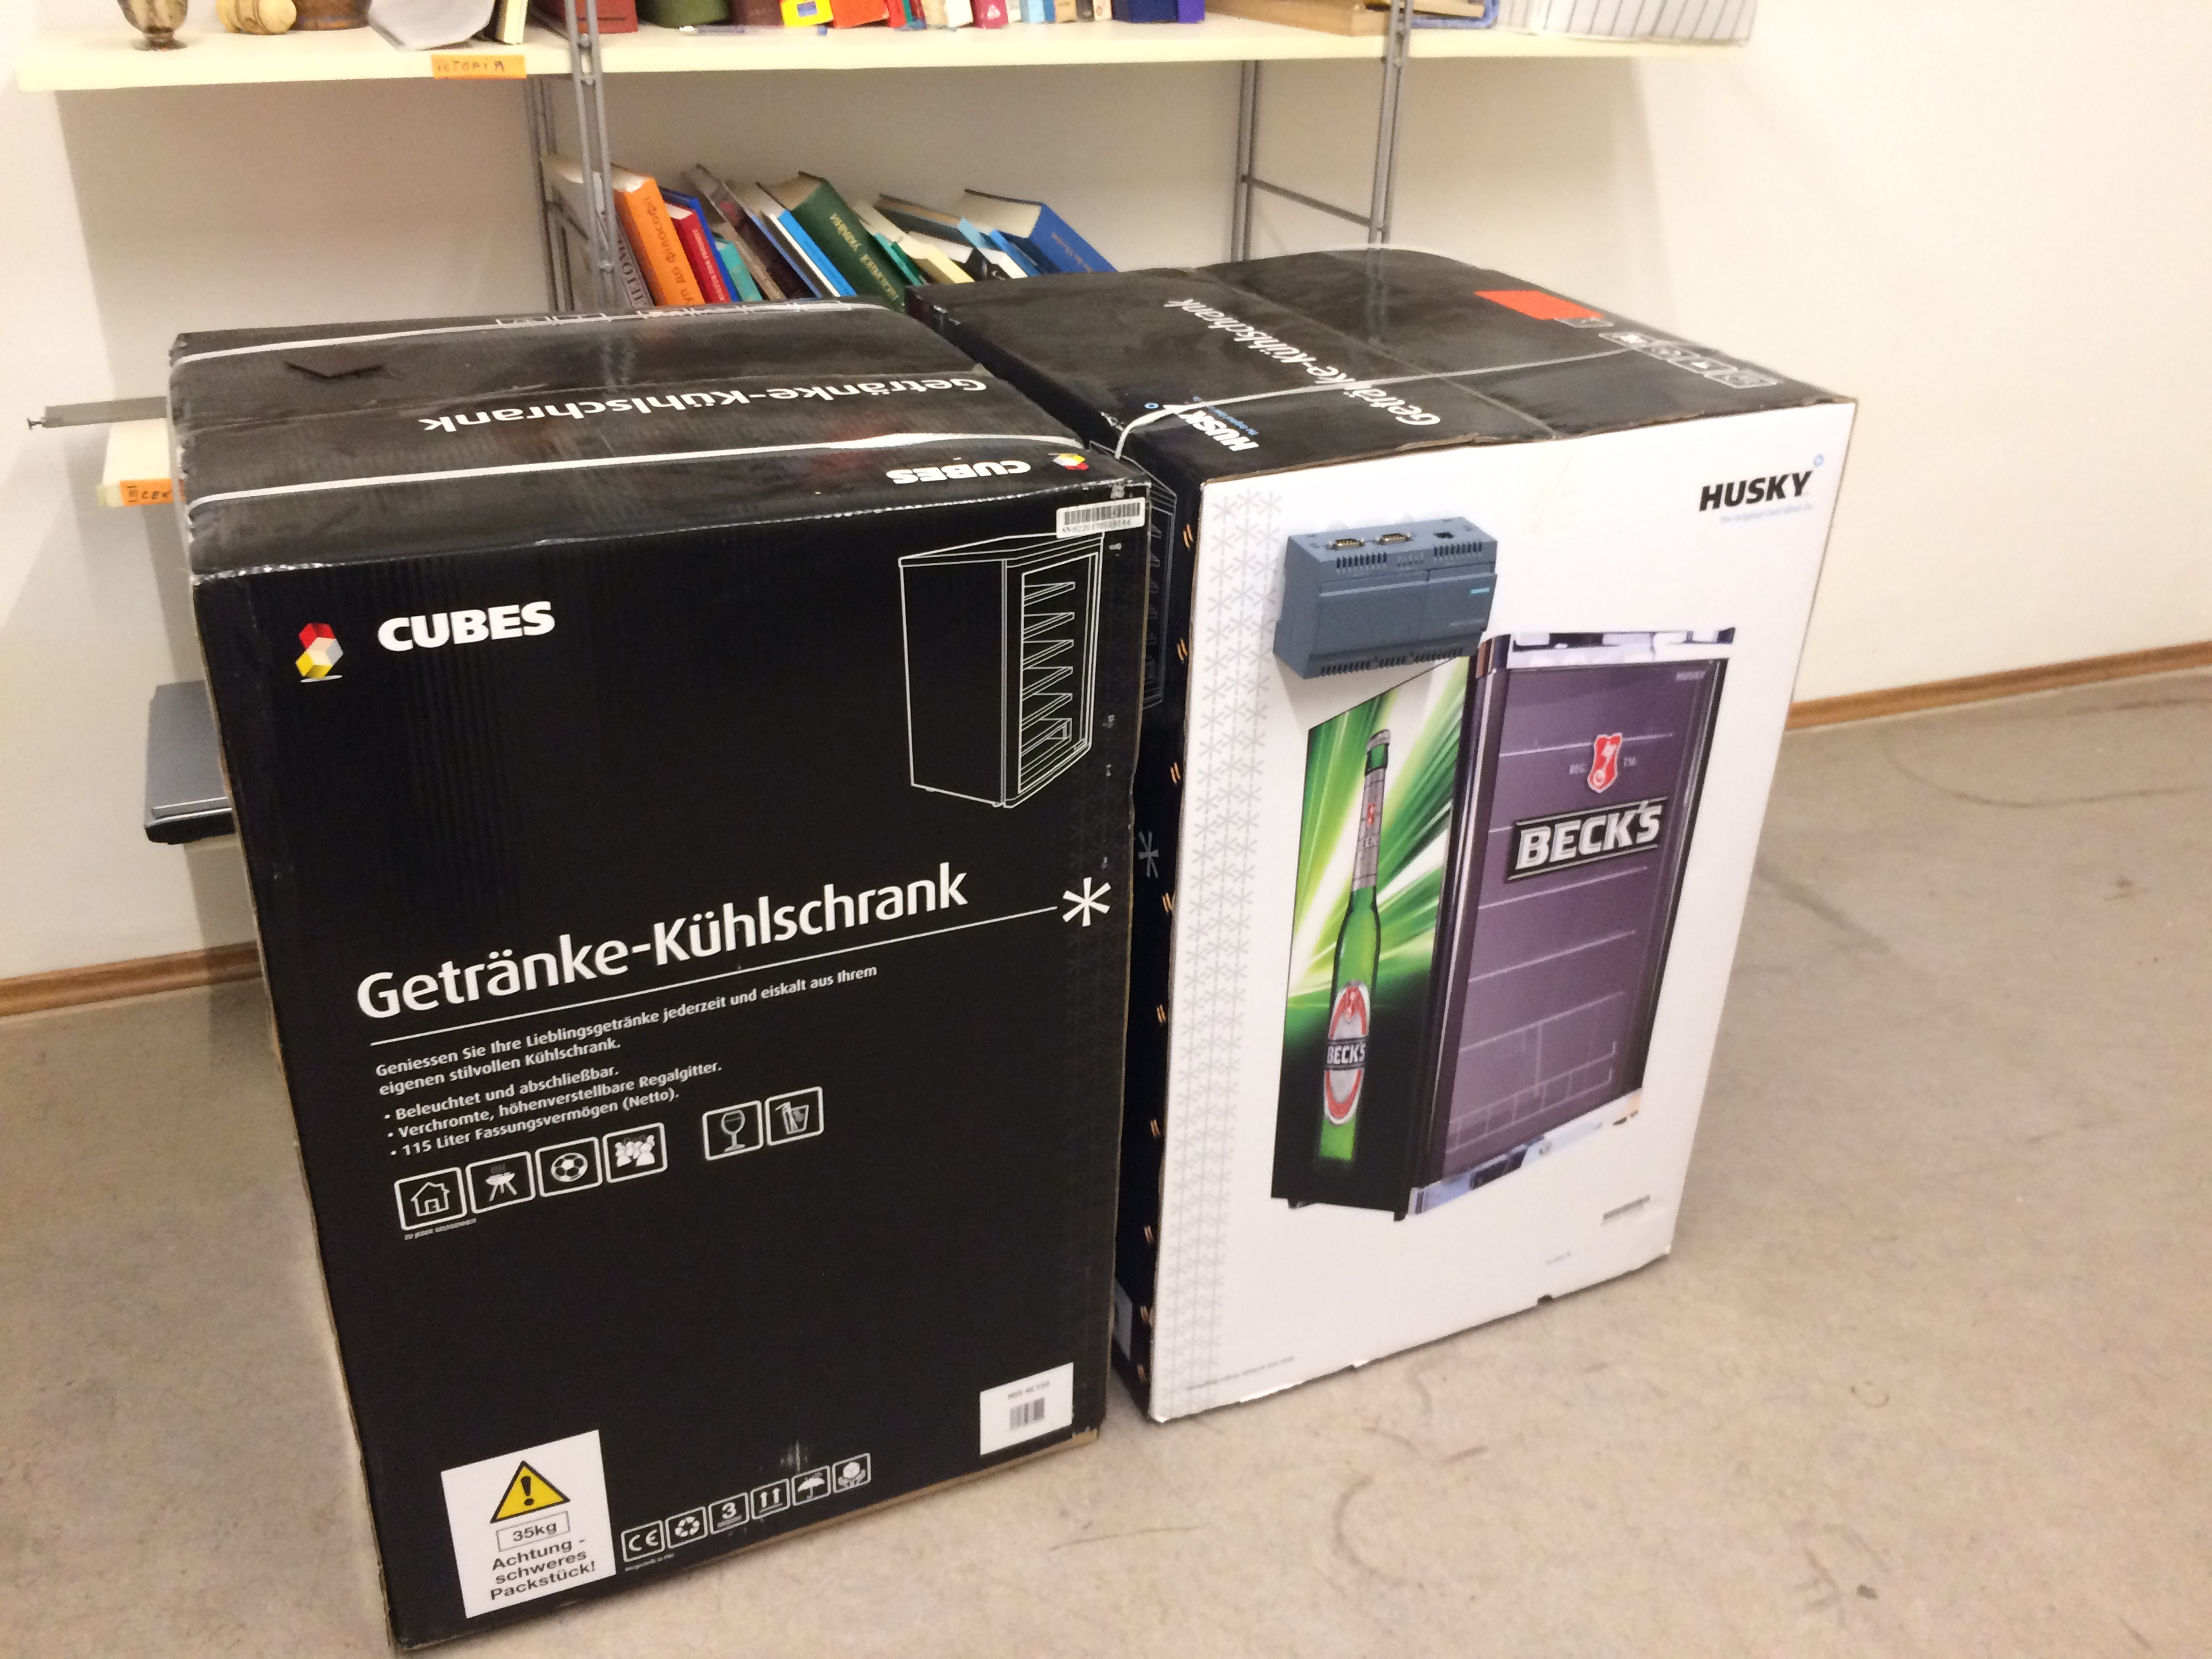iot2000: (1268, 512, 1500, 685)
